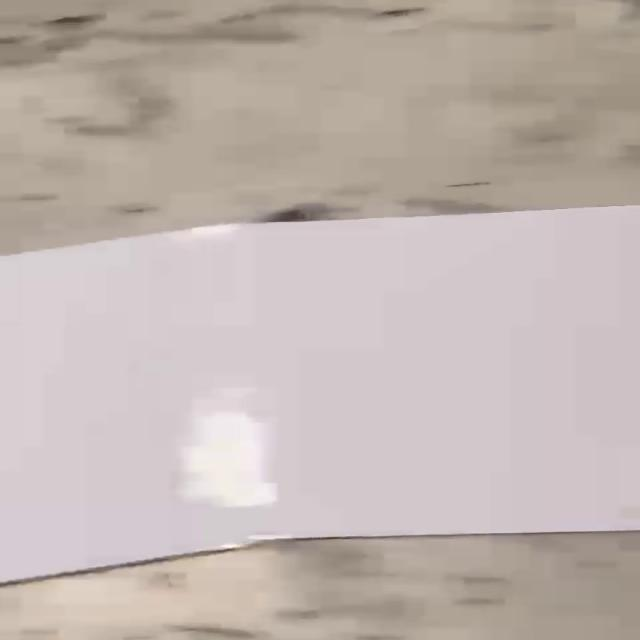road: (1, 206, 639, 579)
